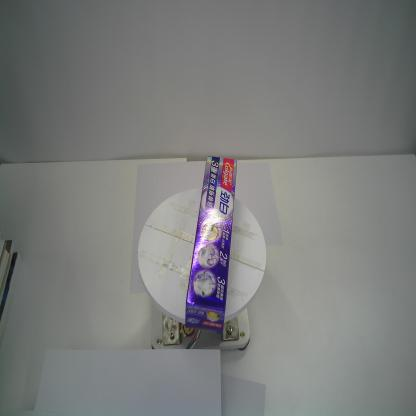Personal Hygiene: (184, 154, 239, 335)
